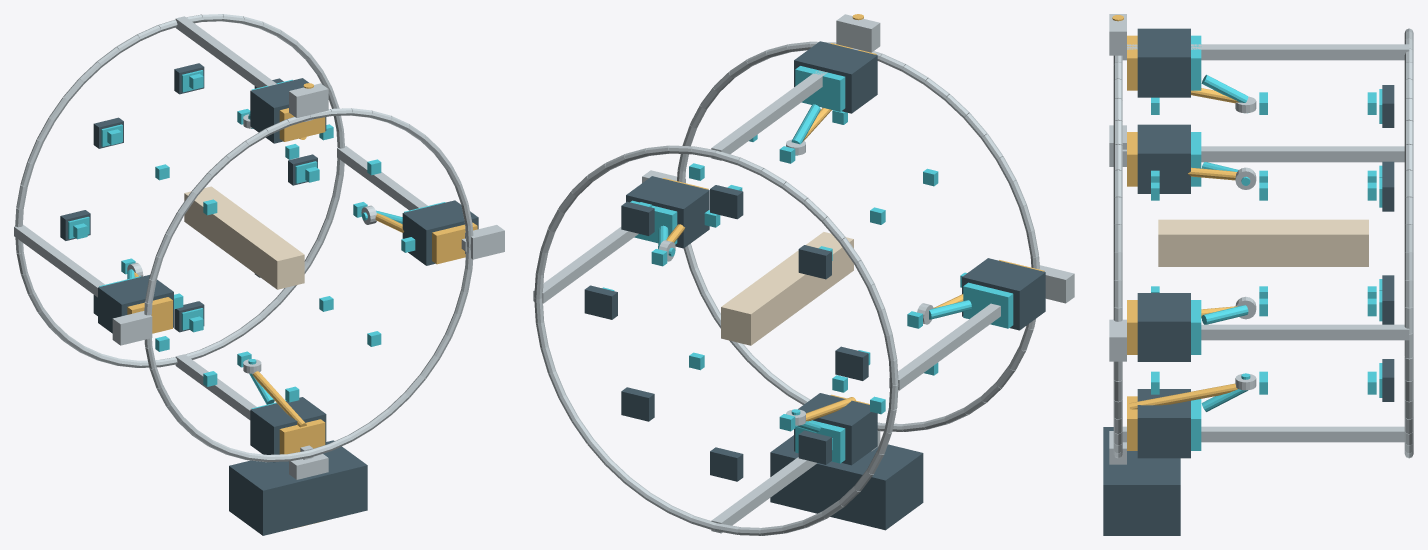
File: PULSE-MIST-cassette.glb
The picture shows the model from 3 angles, left to right: view 1: azimuth 30°, elevation 25°; view 2: azimuth 150°, elevation 25°; view 3: azimuth 270°, elevation 25°; orthographic projection. The views are drawn at different scales.
Visible parts, largest first — view 1: frame, dark, water, sample, gas; view 2: frame, dark, water, sample, gas; view 3: frame, dark, sample, water, gas.
Boxes of the visible parts, box(x1,y1,x2,y2) form: frame: box(14, 14, 504, 479); dark: box(60, 63, 478, 535); water: box(68, 70, 445, 408); sample: box(184, 186, 304, 289); gas: box(127, 83, 477, 528); frame: box(533, 14, 1074, 535); dark: box(584, 41, 1045, 530); water: box(602, 66, 1013, 463); sample: box(721, 232, 853, 345); gas: box(662, 14, 1044, 421); frame: box(1109, 14, 1413, 464); dark: box(1103, 28, 1394, 535); sample: box(1158, 219, 1368, 266); water: box(1151, 35, 1382, 450); gas: box(1112, 15, 1239, 450).
Bounding box in the file's own units: 0.338 × 0.3695 × 0.209.
